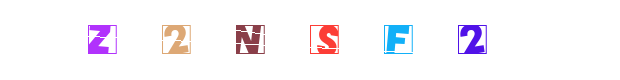2: (208, 0, 288, 80), (356, 0, 436, 80)
F: (286, 0, 366, 80)
N: (246, 0, 326, 80)
S: (271, 0, 351, 80)
Z: (162, 0, 242, 80)
